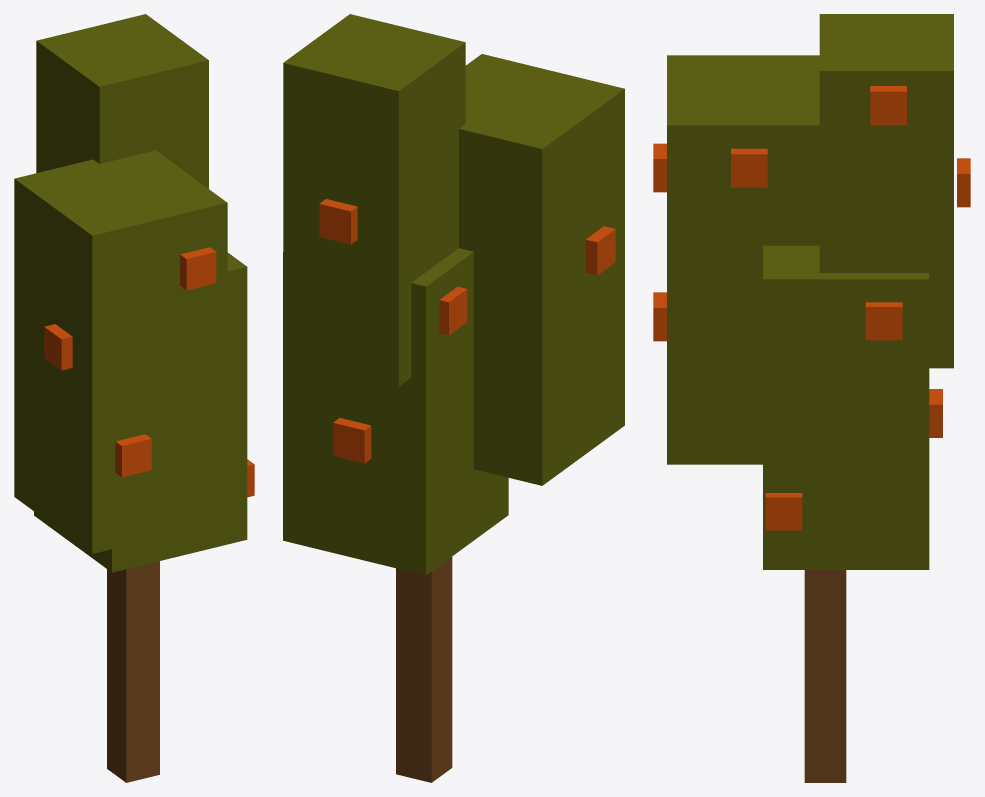
File: HightWood.fbx
3 views of the same model, side by side, from view 1: azimuth 30°, elevation 25°; view 2: azimuth 150°, elevation 25°; view 3: azimuth 270°, elevation 25° (orthographic). The views are drawn at different scales.
Parts seen in each view (by area): view 1: Cube.023; view 2: Cube.023; view 3: Cube.023.
Boxes of the visible parts, x1,y1,x2,y2 form: Cube.023: (14, 14, 254, 782); Cube.023: (283, 14, 624, 782); Cube.023: (653, 14, 970, 782).
Size of the model in its own units: 3446 by 10435 by 4051.
